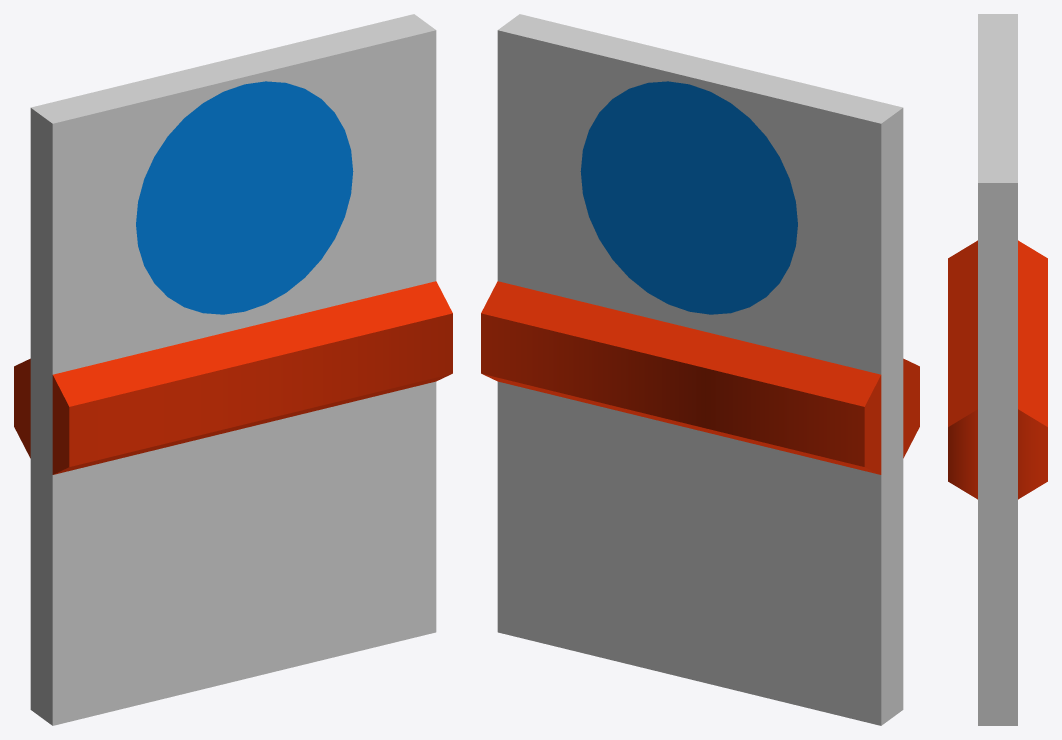
Rendered from Wall1.fbx.
3 views of the same model, side by side, from view 1: azimuth 30°, elevation 25°; view 2: azimuth 150°, elevation 25°; view 3: azimuth 270°, elevation 25° (orthographic). The views are drawn at different scales.
Parts seen in each view (by area): view 1: WallEnd1; view 2: WallEnd1; view 3: WallEnd1.
Boxes of the visible parts, <box> form: WallEnd1: <box>14,14,452,725</box>; WallEnd1: <box>481,14,919,725</box>; WallEnd1: <box>948,14,1047,725</box>.
Size of the model in its own units: 200 by 300 by 50.
